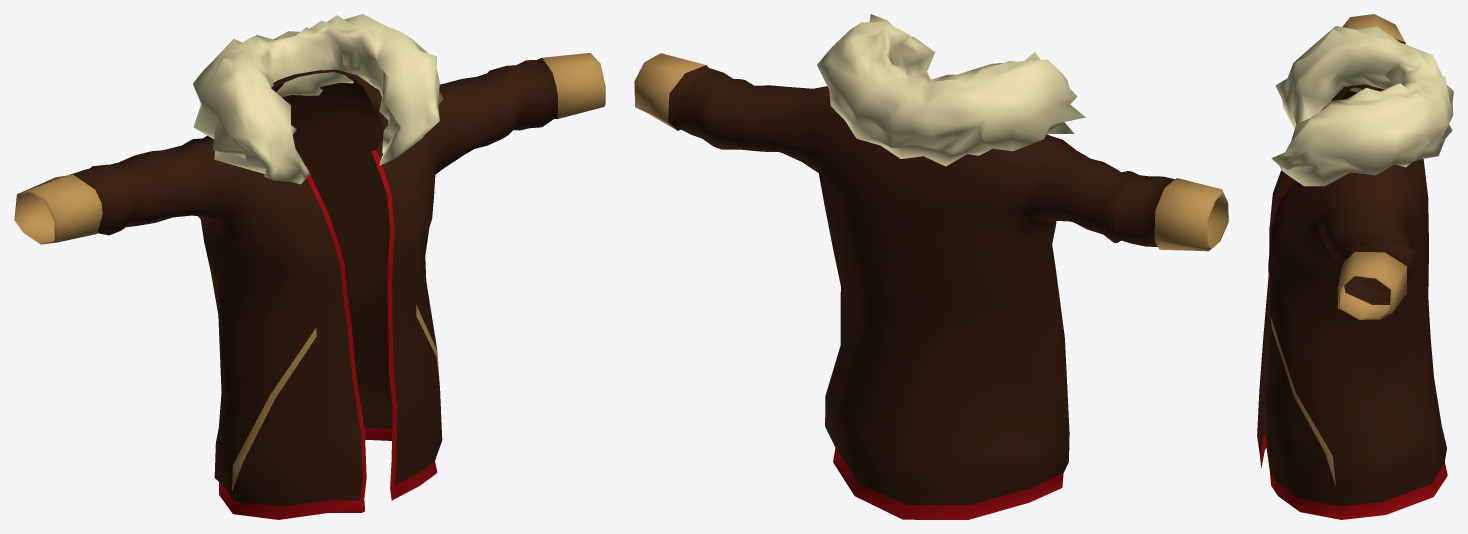
The model's file is Jacket_B.fbx.
The picture shows the model from 3 angles, left to right: view 1: azimuth 30°, elevation 25°; view 2: azimuth 150°, elevation 25°; view 3: azimuth 270°, elevation 25°; orthographic projection. The views are drawn at different scales.
Visible parts, largest first — view 1: Jacket_B; view 2: Jacket_B; view 3: Jacket_B.
Part boxes in pixels (x1=…): Jacket_B: x1=14, y1=14, x2=605, y2=519; Jacket_B: x1=634, y1=14, x2=1228, y2=519; Jacket_B: x1=1257, y1=14, x2=1453, y2=519.
Size of the model in its own units: 115 by 84.76 by 36.23.
